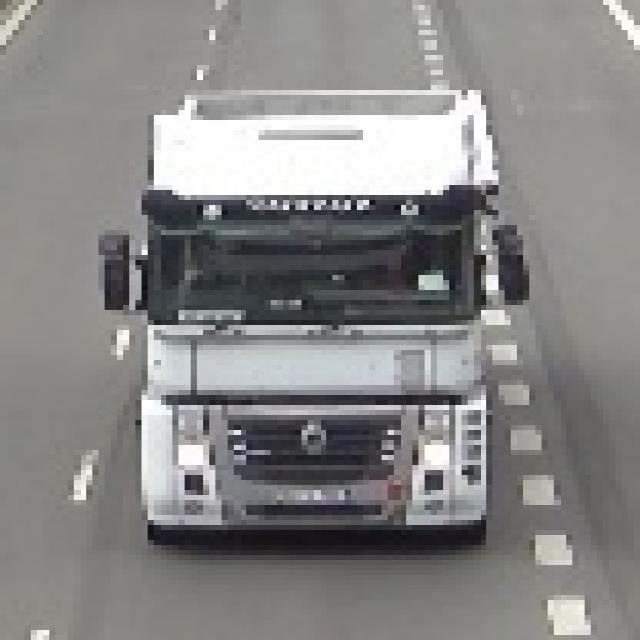TRUCK: (130, 91, 503, 548)
